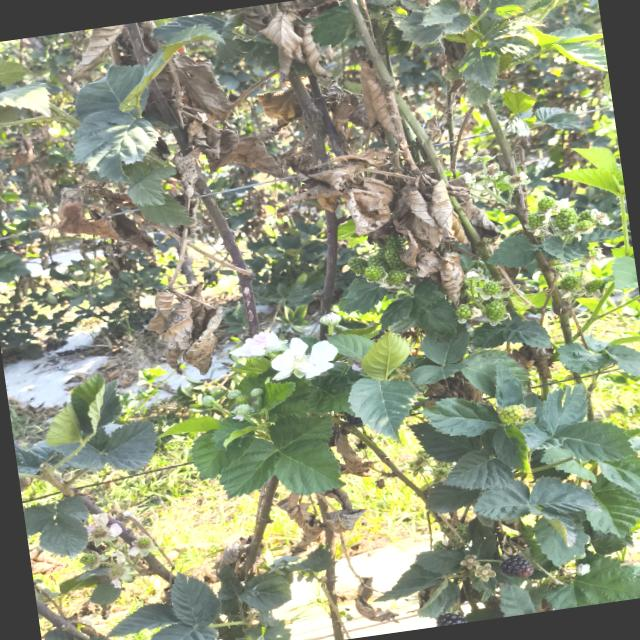boton: (201, 395, 226, 414), (232, 404, 254, 418), (319, 312, 341, 326), (250, 388, 264, 397), (227, 390, 241, 399)
flor: (271, 338, 337, 380), (232, 332, 285, 357)
maduro: (436, 613, 466, 627)
marron: (500, 555, 534, 577)
verde: (528, 211, 549, 236), (499, 405, 525, 424), (485, 300, 506, 322), (556, 208, 577, 230), (385, 247, 404, 269), (367, 253, 389, 272), (348, 257, 368, 275), (559, 274, 580, 291), (386, 270, 406, 286), (364, 266, 385, 281), (455, 304, 472, 321), (483, 281, 501, 295), (538, 197, 555, 210), (578, 209, 592, 220)
